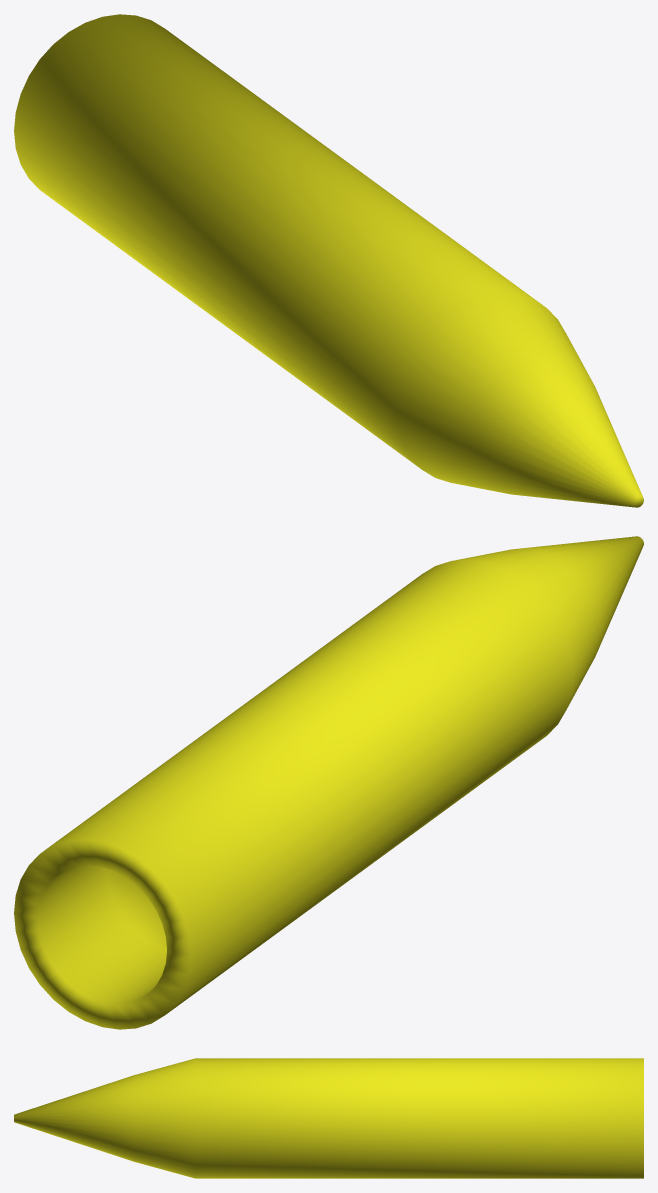
File: Tank_ballchild.glb
3 renders of one model, top to bottom at view 1: azimuth 30°, elevation 25°; view 2: azimuth 150°, elevation 25°; view 3: azimuth 270°, elevation 25°, orthographic. The views are drawn at different scales.
Visible parts, largest first — view 1: tankTando; view 2: tankTando; view 3: tankTando.
Part boxes in pixels (x1,y1,x2,y2): tankTando: (14,14,643,507); tankTando: (14,536,643,1029); tankTando: (14,1058,643,1178).
Size of the model in its own units: 2.01 by 2.01 by 10.54.
